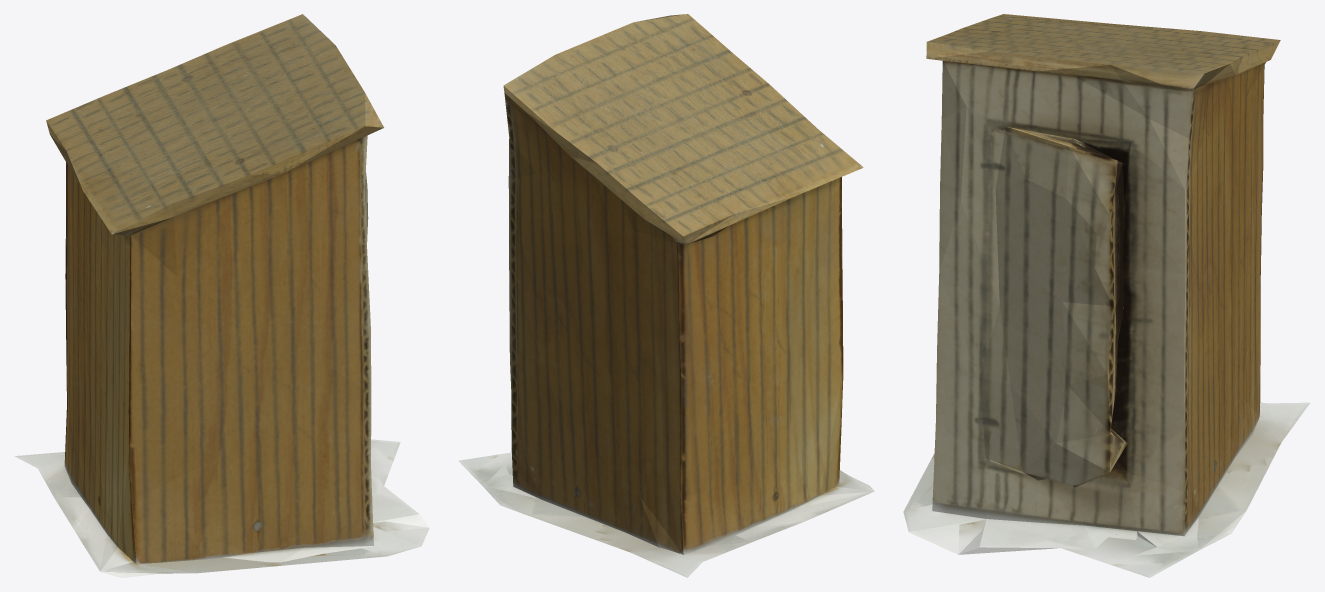
File: mdl_bat_ete_36.fbx
3 views of the same model, side by side, from view 1: azimuth 30°, elevation 25°; view 2: azimuth 150°, elevation 25°; view 3: azimuth 270°, elevation 25° (orthographic). The views are drawn at different scales.
Parts seen in each view (by area): view 1: mdl_bat_ete_36; view 2: mdl_bat_ete_36; view 3: mdl_bat_ete_36.
Part boxes in pixels (x1=…): mdl_bat_ete_36: x1=14, y1=14, x2=429, y2=577; mdl_bat_ete_36: x1=458, y1=14, x2=874, y2=577; mdl_bat_ete_36: x1=903, y1=14, x2=1310, y2=577.
Size of the model in its own units: 7.32 by 8.43 by 6.44.
1 material, 1 textured.
